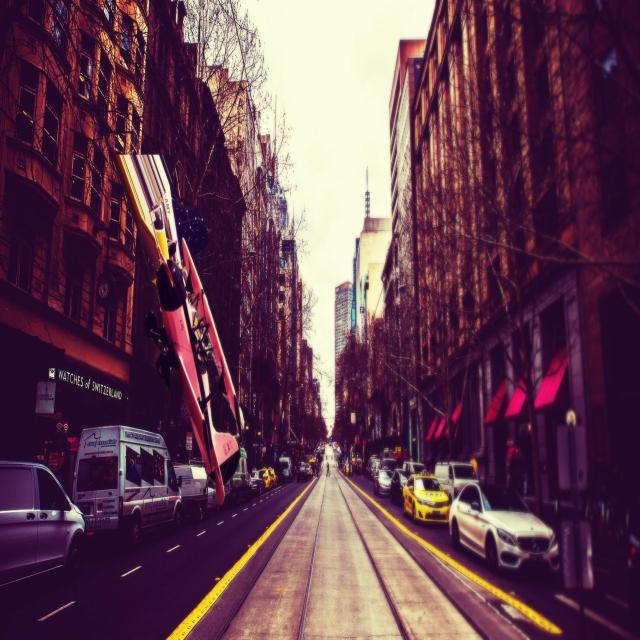airplane: (109, 148, 248, 506)
